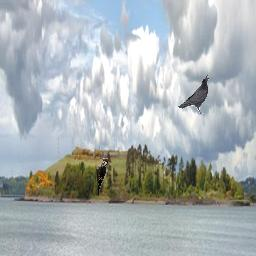Crow: (178, 74, 209, 114)
Woodpecker: (96, 157, 109, 197)
